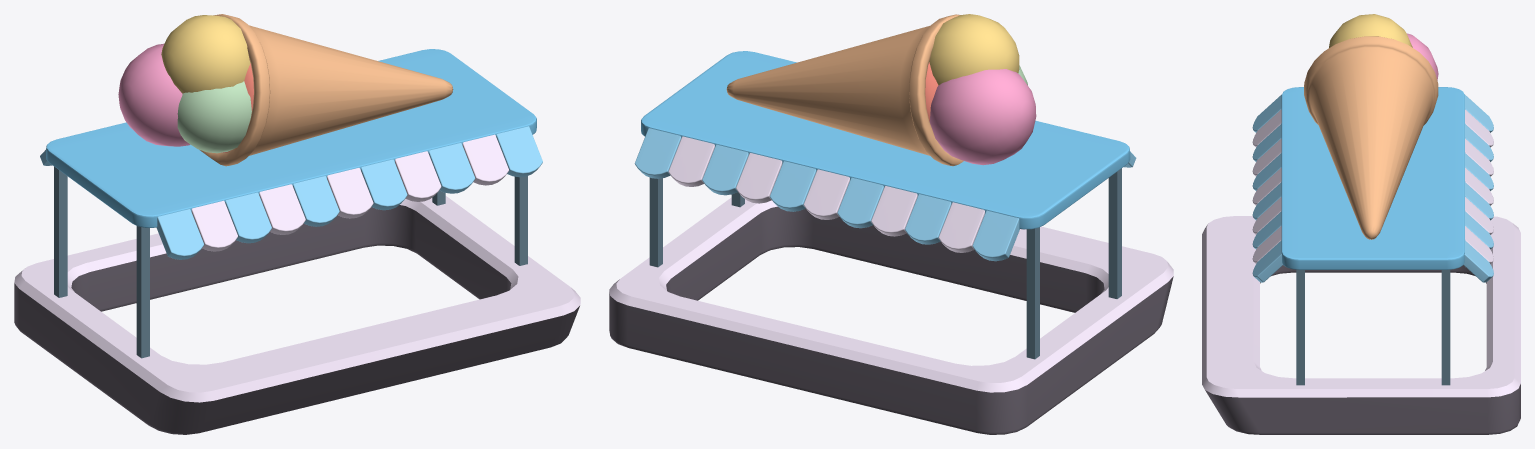
The model's file is Ice_Cream_Stall_M3.fbx.
The picture shows the model from 3 angles, left to right: view 1: azimuth 30°, elevation 25°; view 2: azimuth 150°, elevation 25°; view 3: azimuth 270°, elevation 25°; orthographic projection. The views are drawn at different scales.
Visible parts, largest first — view 1: Stall_M3, Ice_cream_M; view 2: Stall_M3, Ice_cream_M; view 3: Stall_M3, Ice_cream_M.
Part boxes in pixels (x1,y1,x2,y2): Stall_M3: (14, 49, 580, 434); Ice_cream_M: (118, 14, 453, 166); Stall_M3: (609, 51, 1173, 434); Ice_cream_M: (726, 14, 1036, 166); Stall_M3: (1202, 87, 1520, 434); Ice_cream_M: (1304, 14, 1438, 239).
Bounding box in the file's own units: 5.81 × 4.45 × 4.39.
1 material, 1 textured.
